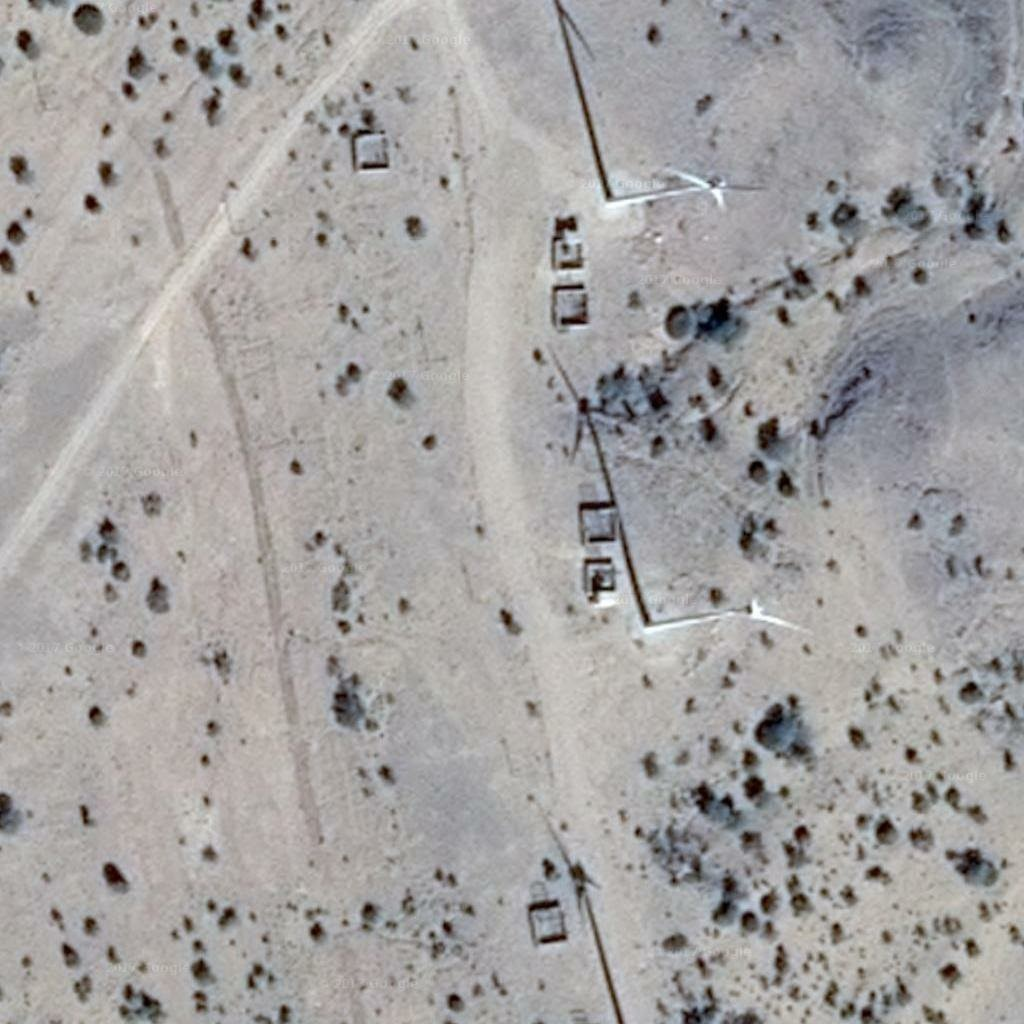Windmill: (544, 346, 655, 600)
